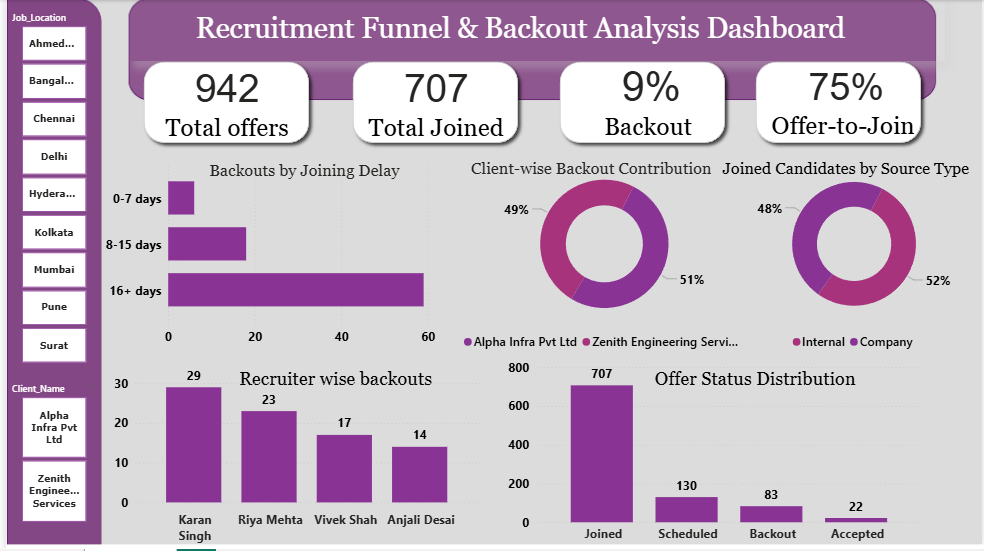

The page's visual inventory and layout, read from the dashboard file:
{"tool":"powerbi","page":{"name":"Overview","canvas":[1280,720],"ordinal":0},"visuals":[{"type":"textbox","box":[162.3,0,1066.9,81.2],"z":0},{"type":"shape","box":[172,72.9,234,123.9],"z":0,"group":"g1"},{"type":"group","id":"g1","title":"Group 1","box":[172,72.9,1035,123.9],"z":1000},{"type":"shape","box":[445.9,72.9,234,123.9],"z":1000,"group":"g1"},{"type":"card","fields":{"Values":["Onboarding_data.Total_offers"]},"box":[123.9,57.8,330.3,148.6],"z":2000},{"type":"shape","box":[717,72.9,234,123.9],"z":2000,"group":"g1"},{"type":"card","fields":{"Values":["Onboarding_data.Total joined"]},"box":[397.8,57.8,330.3,148.6],"z":3000},{"type":"shape","box":[973,72.9,234,123.9],"z":3000,"group":"g1"},{"type":"card","fields":{"Values":["Onboarding_data.Backout %"]},"box":[679.9,55.1,330.3,148.6],"z":4000},{"type":"card","fields":{"Values":["Onboarding_data.Offer-to-Join %"]},"box":[951.1,72.9,298.7,112.9],"z":5000},{"type":"clusteredBarChart","fields":{"Category":["Onboarding_data.Delay_bucket"],"Y":["Sum(Onboarding_data.Backout_flag)"]},"box":[124.9,202.2,443,261.6],"z":6000},{"type":"donutChart","fields":{"Category":["Onboarding_data.Source_Type"],"Y":["Onboarding_data.Total joined"]},"box":[950,203.7,319.6,264.6],"z":7000},{"type":"donutChart","fields":{"Category":["Onboarding_data.Client_Name"],"Y":["Sum(Onboarding_data.Joined_flag)"]},"box":[593.2,203.7,380.6,264.6],"z":8000},{"type":"slicer","fields":{"Values":["Onboarding_data.Job_Location"]},"box":[0,15.1,123.9,462.5],"z":9000},{"type":"slicer","fields":{"Values":["Onboarding_data.Client_Name"]},"box":[0,501.4,124.4,184.6],"z":10000},{"type":"textbox","box":[218.8,206.5,344.1,52.3],"z":11000},{"type":"textbox","box":[235.6,477.8,327.3,38],"z":12000},{"type":"textbox","box":[565.7,203.7,363.4,55.1],"z":13000},{"type":"textbox","box":[929,203.7,340,67.4],"z":14000},{"type":"textbox","box":[844.4,477.2,362.7,49.1],"z":15000},{"type":"columnChart","fields":{"Y":["CountNonNull(Onboarding_data.Employee_Name)"],"Category":["Onboarding_data.Status"]},"box":[651.9,463.4,555.1,256.6],"z":16000},{"type":"columnChart","fields":{"Y":["Sum(Onboarding_data.Backout_flag)"],"Category":["Onboarding_data.Recruiter_Name"]},"box":[136.1,468.7,489.6,251.3],"z":17000}]}

Visuals, with their boxes in screenshot pixels (x1, y1, x2, y2), scaled from the page's 1280x720 canvas onto the 984x551 screenshot:
textbox: 125 0 945 62
shape: 132 56 312 151
"Group 1" group: 132 56 928 151
shape: 343 56 523 151
card - Onboarding_data.Total_offers: 95 44 349 158
shape: 551 56 731 151
card - Onboarding_data.Total joined: 306 44 560 158
shape: 748 56 928 151
card - Onboarding_data.Backout %: 523 42 777 156
card - Onboarding_data.Offer-to-Join %: 731 56 961 142
clusteredBarChart - Onboarding_data.Delay_bucket x Sum(Onboarding_data.Backout_flag): 96 155 437 355
donutChart - Onboarding_data.Source_Type x Onboarding_data.Total joined: 730 156 976 358
donutChart - Onboarding_data.Client_Name x Sum(Onboarding_data.Joined_flag): 456 156 749 358
slicer - Onboarding_data.Job_Location: 0 12 95 365
slicer - Onboarding_data.Client_Name: 0 384 96 525
textbox: 168 158 433 198
textbox: 181 366 433 395
textbox: 435 156 714 198
textbox: 714 156 976 207
textbox: 649 365 928 403
columnChart - CountNonNull(Onboarding_data.Employee_Name) x Onboarding_data.Status: 501 355 928 550
columnChart - Sum(Onboarding_data.Backout_flag) x Onboarding_data.Recruiter_Name: 105 359 481 550
